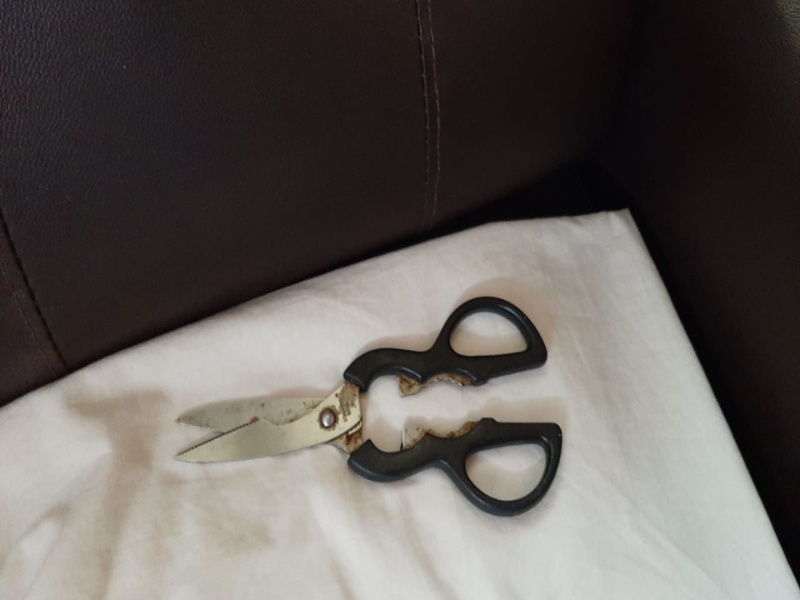scissor: (168, 290, 571, 521)
